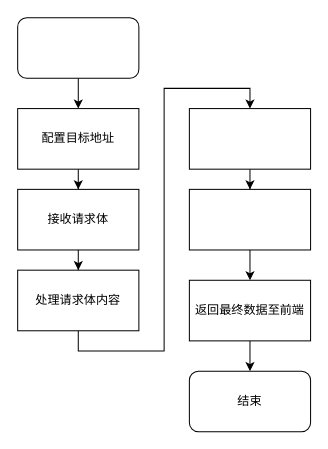
This 328x449 diagram has some shape labels left out. Each missing label, with the centre of its shape:
"处理返回数据" belongs at (x=249, y=219).
"开始" belongs at (x=78, y=47).
"转发消息" belongs at (x=249, y=138).
